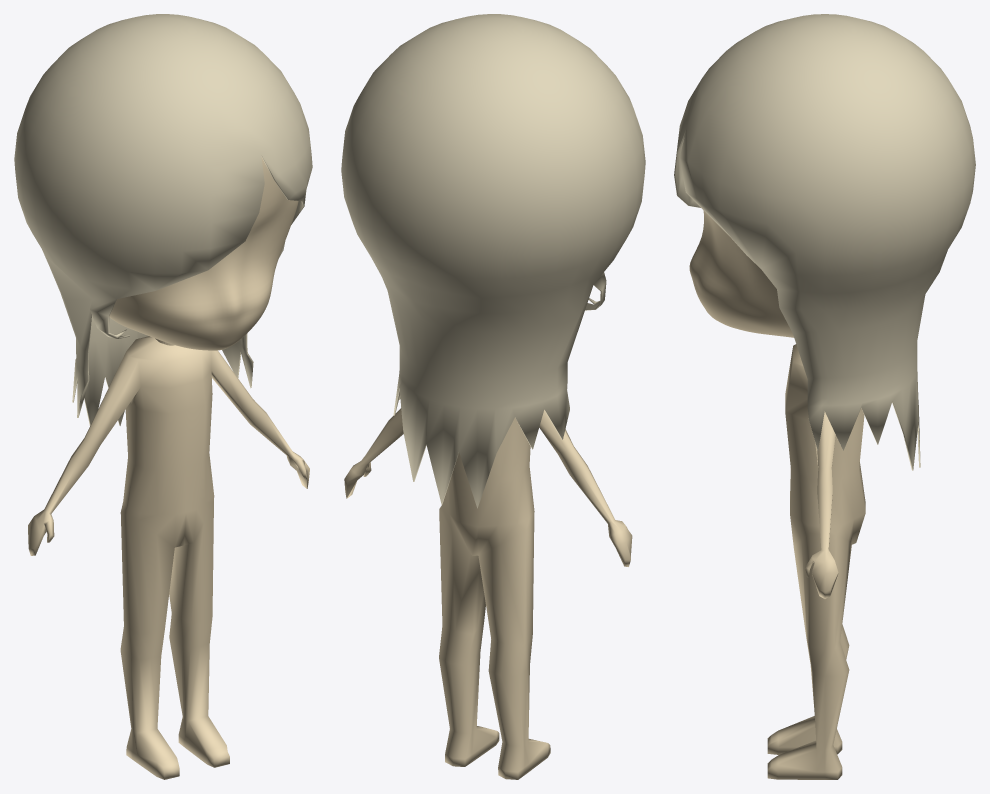
The model's file is AvatarHearts.fbx.
The picture shows the model from 3 angles, left to right: view 1: azimuth 30°, elevation 25°; view 2: azimuth 150°, elevation 25°; view 3: azimuth 270°, elevation 25°; orthographic projection. The views are drawn at different scales.
Visible parts, largest first — view 1: Sphere.002, Cube.001, Sphere.003; view 2: Sphere.002, Cube.001; view 3: Sphere.002, Cube.001, Sphere.003.
Boxes of the visible parts, x1,y1,x2,y2 form: Sphere.002: (14, 14, 312, 425); Cube.001: (28, 336, 309, 779); Sphere.003: (109, 157, 298, 350); Sphere.002: (341, 14, 645, 508); Cube.001: (344, 408, 632, 779); Sphere.002: (674, 14, 975, 470); Cube.001: (767, 344, 865, 779); Sphere.003: (689, 210, 793, 337).
Size of the model in its own units: 319 by 788 by 295.
